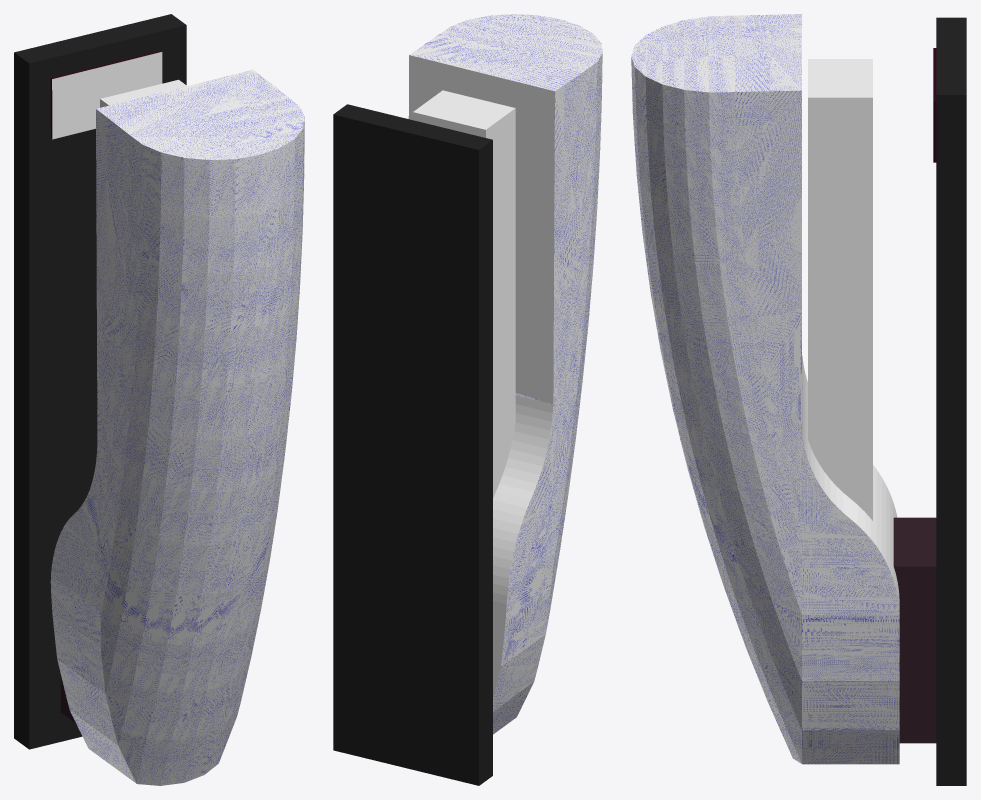
3 renders of one model, left to right at view 1: azimuth 30°, elevation 25°; view 2: azimuth 150°, elevation 25°; view 3: azimuth 270°, elevation 25°, orthographic. The views are drawn at different scales.
Visible parts, largest first — view 1: stapler; view 2: stapler; view 3: stapler.
Part boxes in pixels (<box>): stapler: <box>14,14,304,785</box>; stapler: <box>333,14,602,785</box>; stapler: <box>631,14,966,785</box>.
Size of the model in its own units: 1.2 by 4.95 by 2.17.
